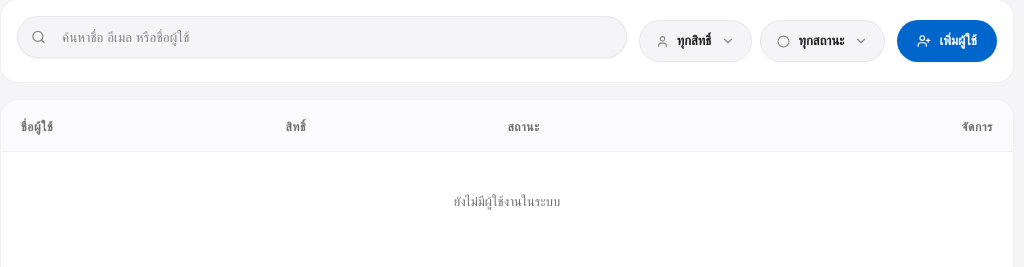
Test: UserManagement — search, filters and paging › says so when a search matches nothing
Expected: the text "ยังไม่มีผู้ใช้งานในระบบ" is shown, x1=1 y1=152 x2=1013 y2=251
Type "zzz" into the search field named "ค้นหาผู้ใช้". click: (322, 37)
box: x1=17 y1=16 x2=627 y2=58
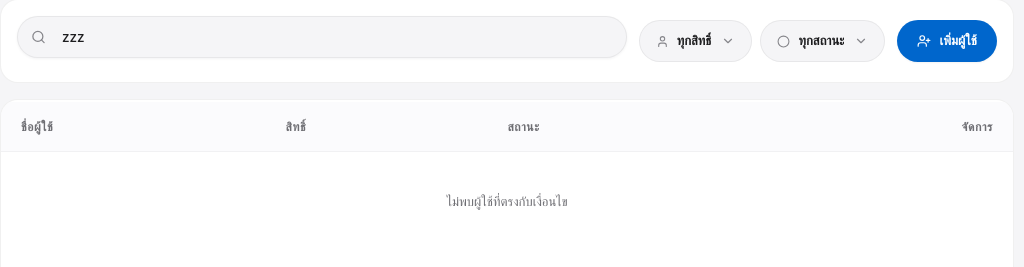
Result: the text "ไม่พบผู้ใช้ที่ตรงกับเงื่อนไข" is shown at x1=1 y1=152 x2=1013 y2=251
